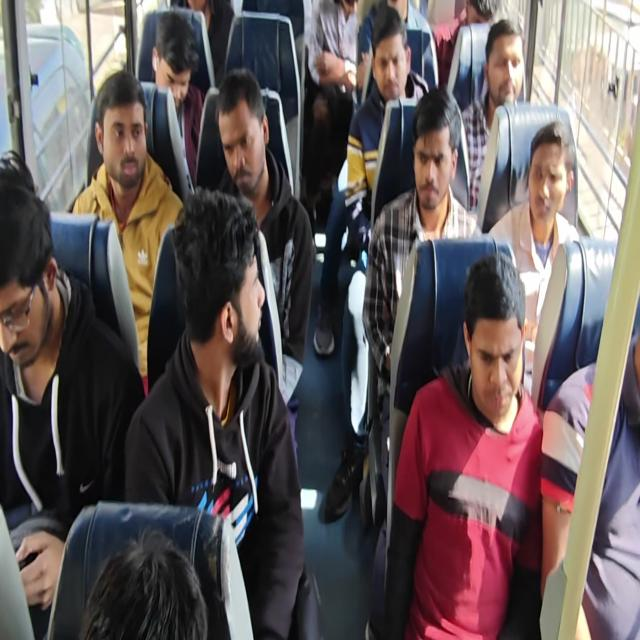person: (1, 1, 637, 638), (124, 186, 308, 638), (0, 153, 145, 636), (382, 251, 544, 638), (214, 66, 315, 470), (361, 87, 481, 417), (70, 70, 185, 397), (540, 322, 639, 640), (487, 120, 580, 342), (344, 5, 426, 256), (78, 527, 209, 639), (459, 17, 526, 211), (302, 0, 359, 226), (150, 10, 204, 189), (356, 0, 435, 102), (432, 0, 502, 92), (186, 0, 235, 90)
